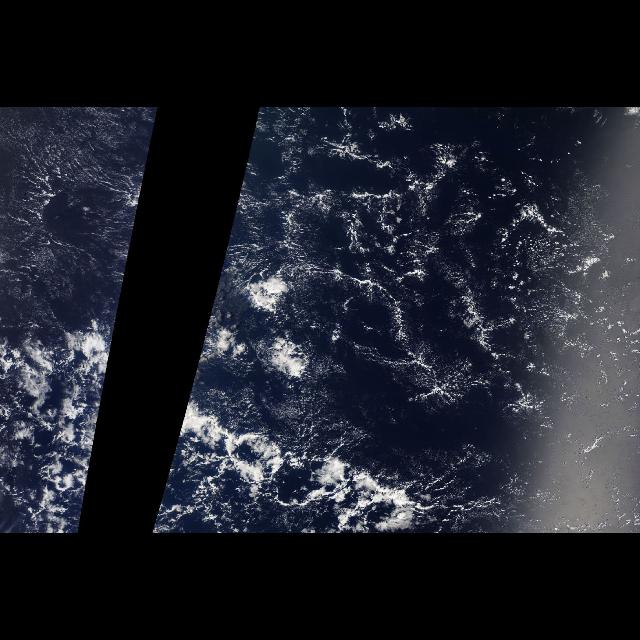Gravel: (340, 151, 634, 485)
Sugar: (196, 127, 638, 375), (0, 107, 156, 375)
